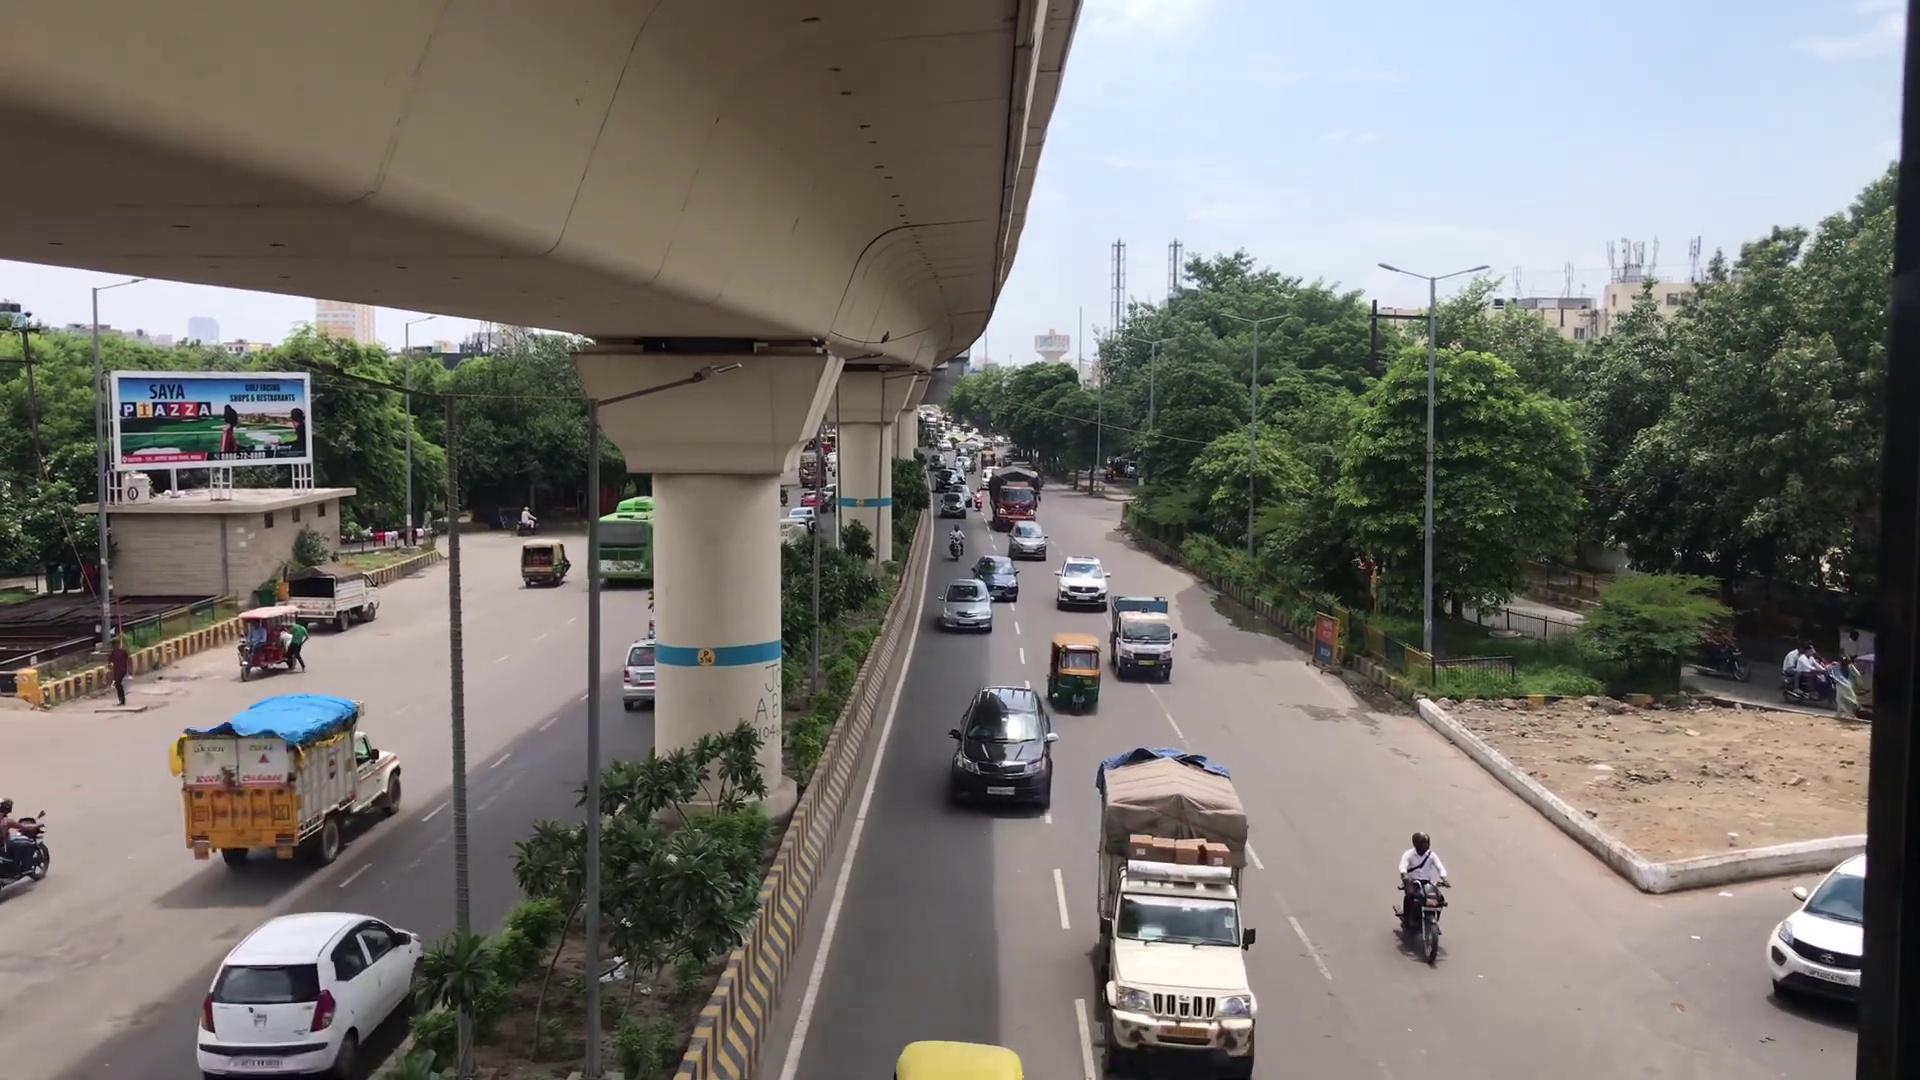Auto: (236, 603, 309, 679), (1047, 629, 1104, 712), (518, 525, 574, 589)
Bike: (1396, 823, 1449, 967), (0, 786, 51, 906)
Car: (194, 906, 422, 1077), (945, 684, 1055, 808), (938, 570, 992, 634), (1058, 551, 1109, 609)
Truck: (1088, 740, 1262, 1079), (170, 688, 401, 868), (1110, 591, 1175, 680)
